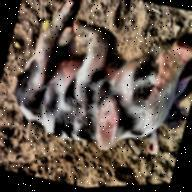boar: (3, 0, 192, 172)
